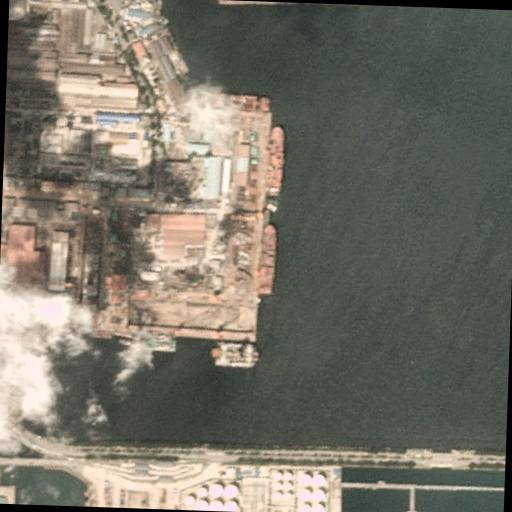ship: (213, 338, 262, 370), (264, 123, 284, 194), (260, 219, 276, 296)
